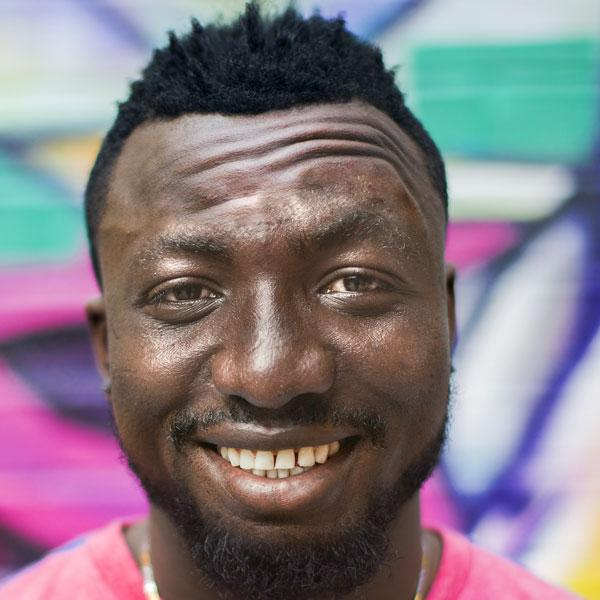Eyes: (304, 257, 407, 312), (139, 264, 235, 321)
